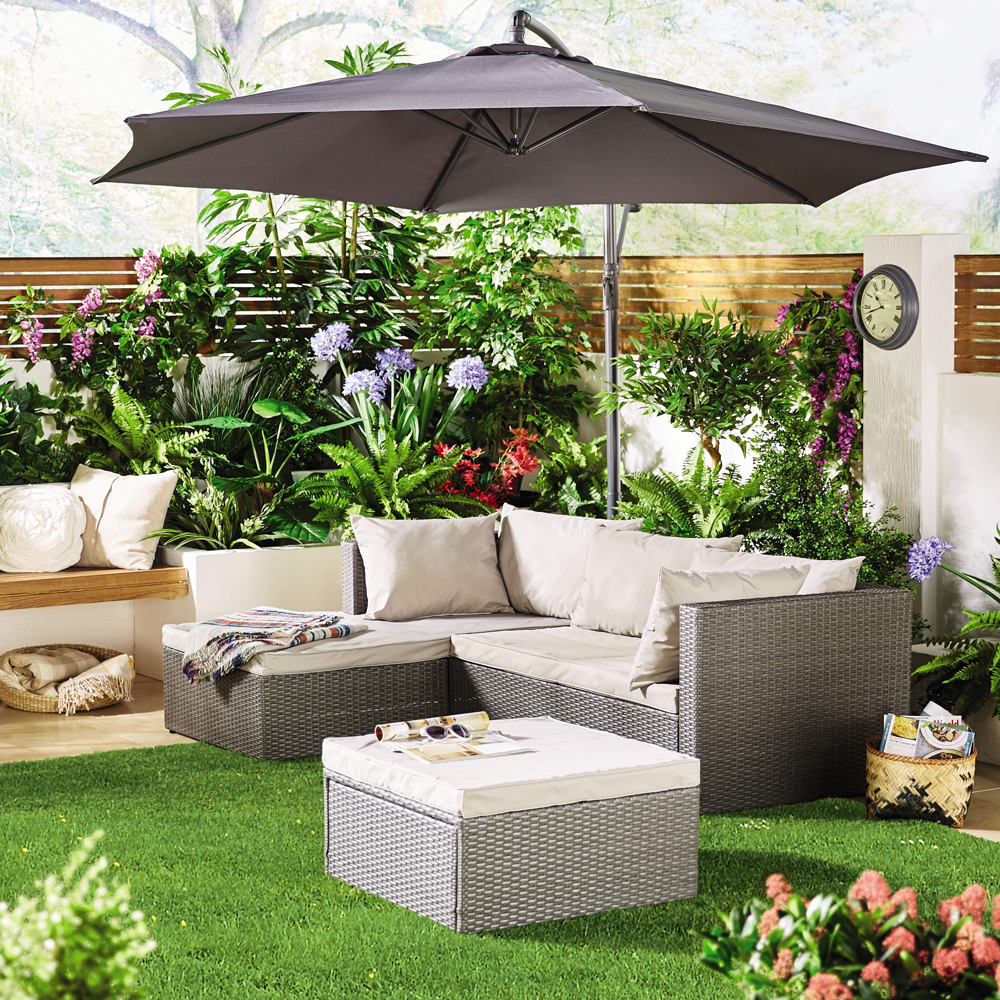chairs: (160, 495, 926, 825), (315, 700, 703, 930)
